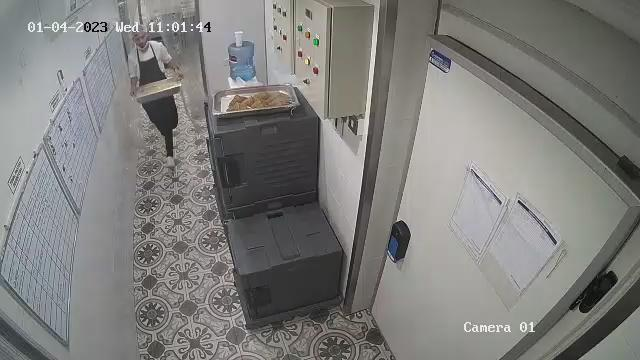apron: (134, 42, 175, 110)
